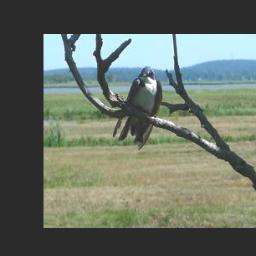Swallow: (110, 64, 165, 151)
